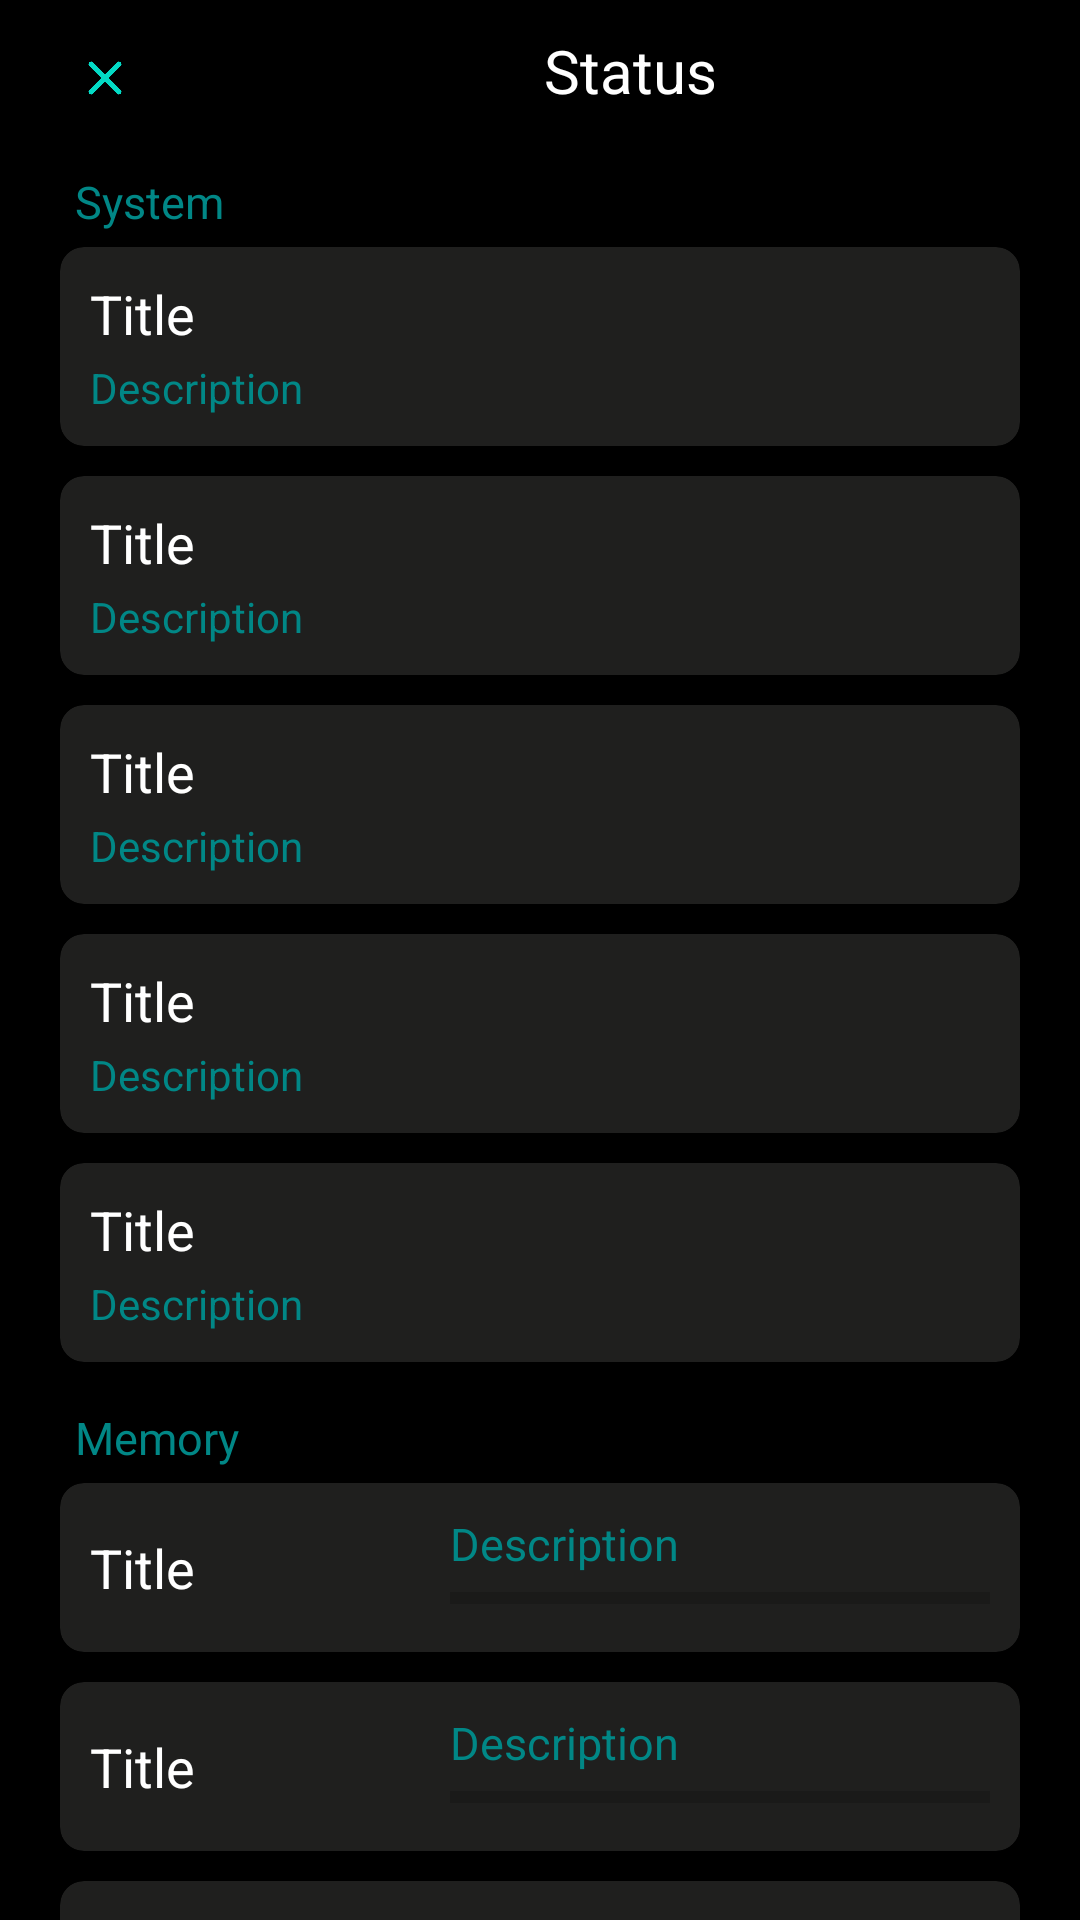

Named icons in this screenshot (1080px×1920px) and their bounding boxes, bbox=[x1, y1, x2, y2]:
cross: bbox=[88, 61, 122, 95]
